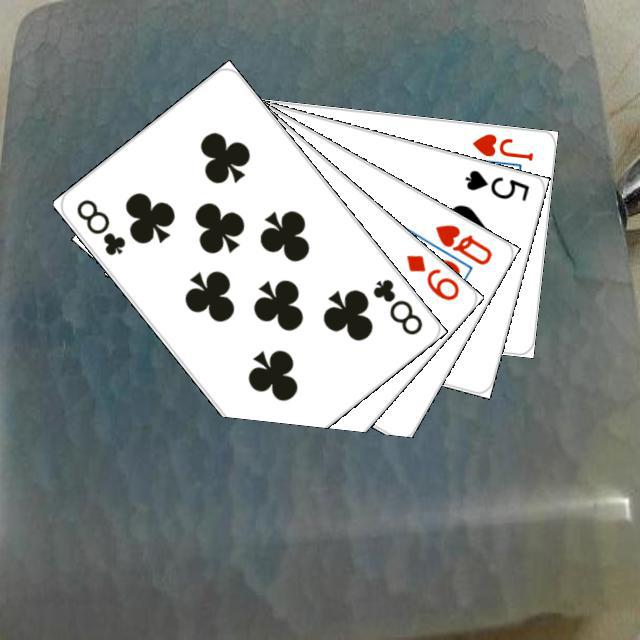5s: (460, 165, 531, 203)
8c: (367, 274, 425, 337), (71, 194, 128, 258)
9d: (401, 249, 461, 303)
Jh: (467, 128, 535, 163)
Qh: (430, 219, 494, 267)
